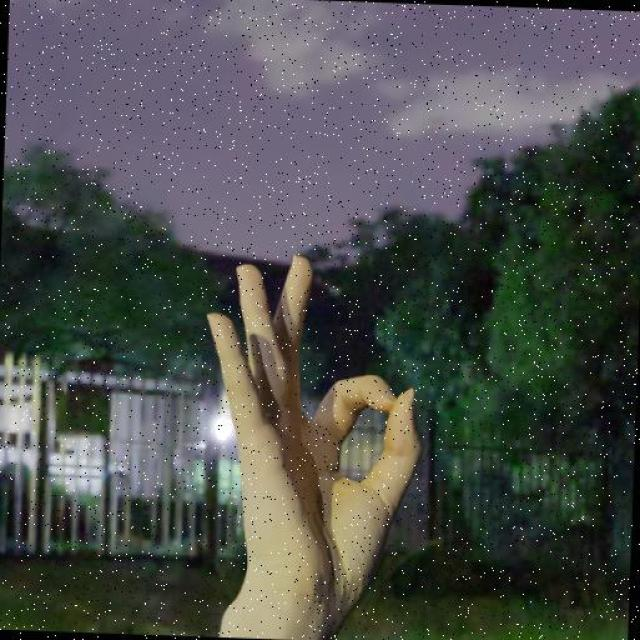F: (195, 248, 434, 627)
